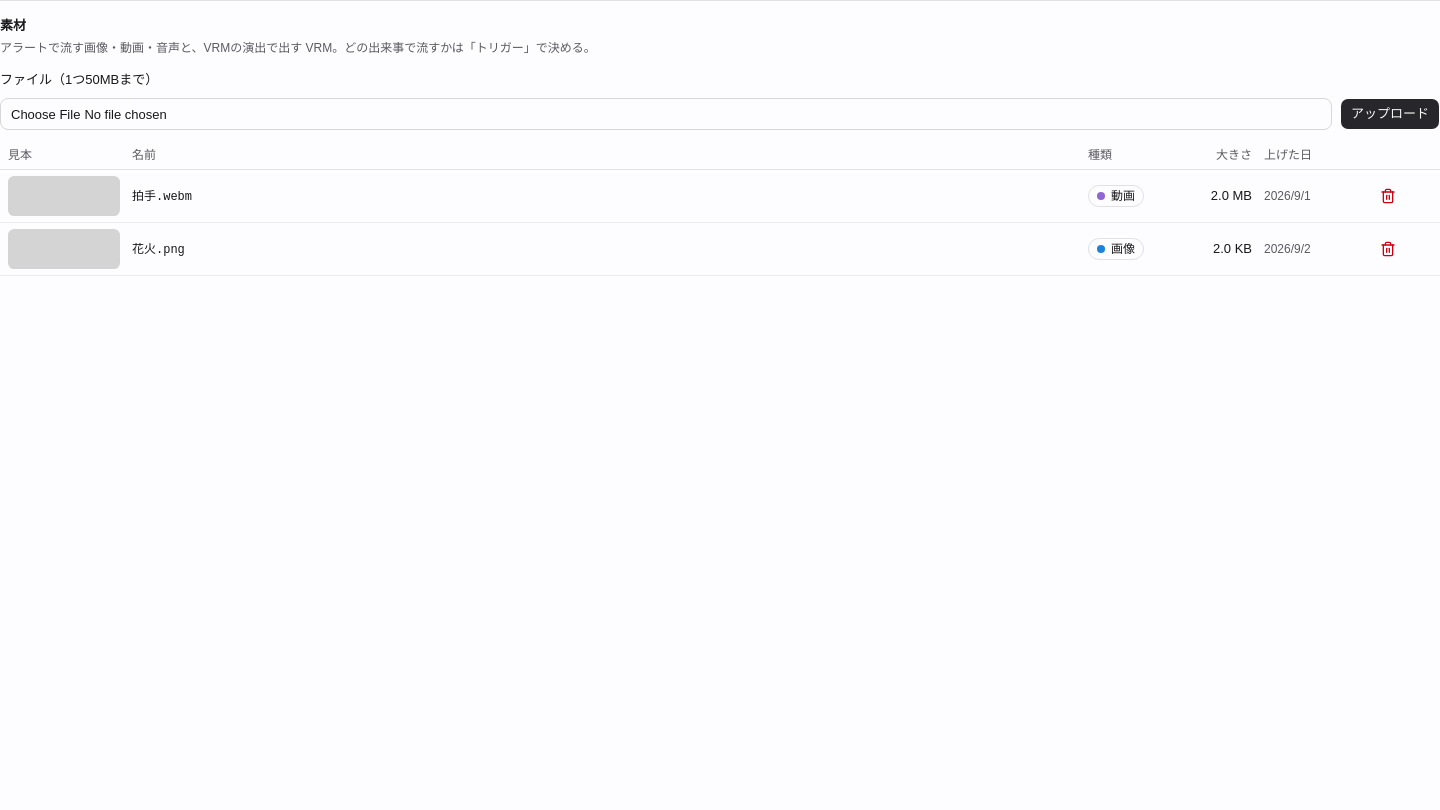
it: 削除 › 削除は確認してから行い、一覧から消す
The width and height of the screenshot is (1440, 810).
Click the button named "花火.png を削除" at coordinates (1388, 249), box 1372,233 -> 1404,265
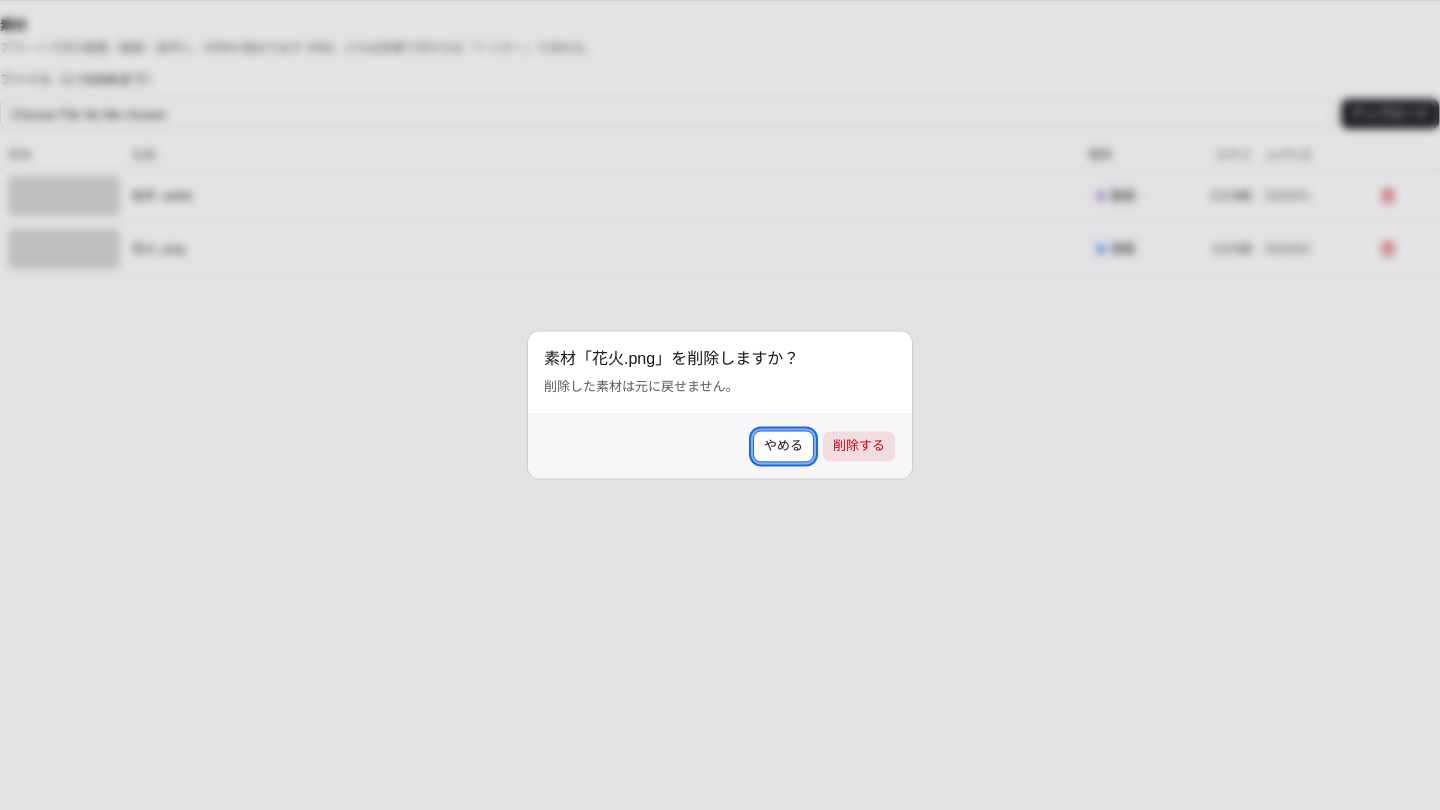
Result: the dialog shows "素材「花火.png」を削除しますか？" at 544,350 -> 799,367
Click the button "削除する" at coordinates (859, 447), box 822,431 -> 896,463
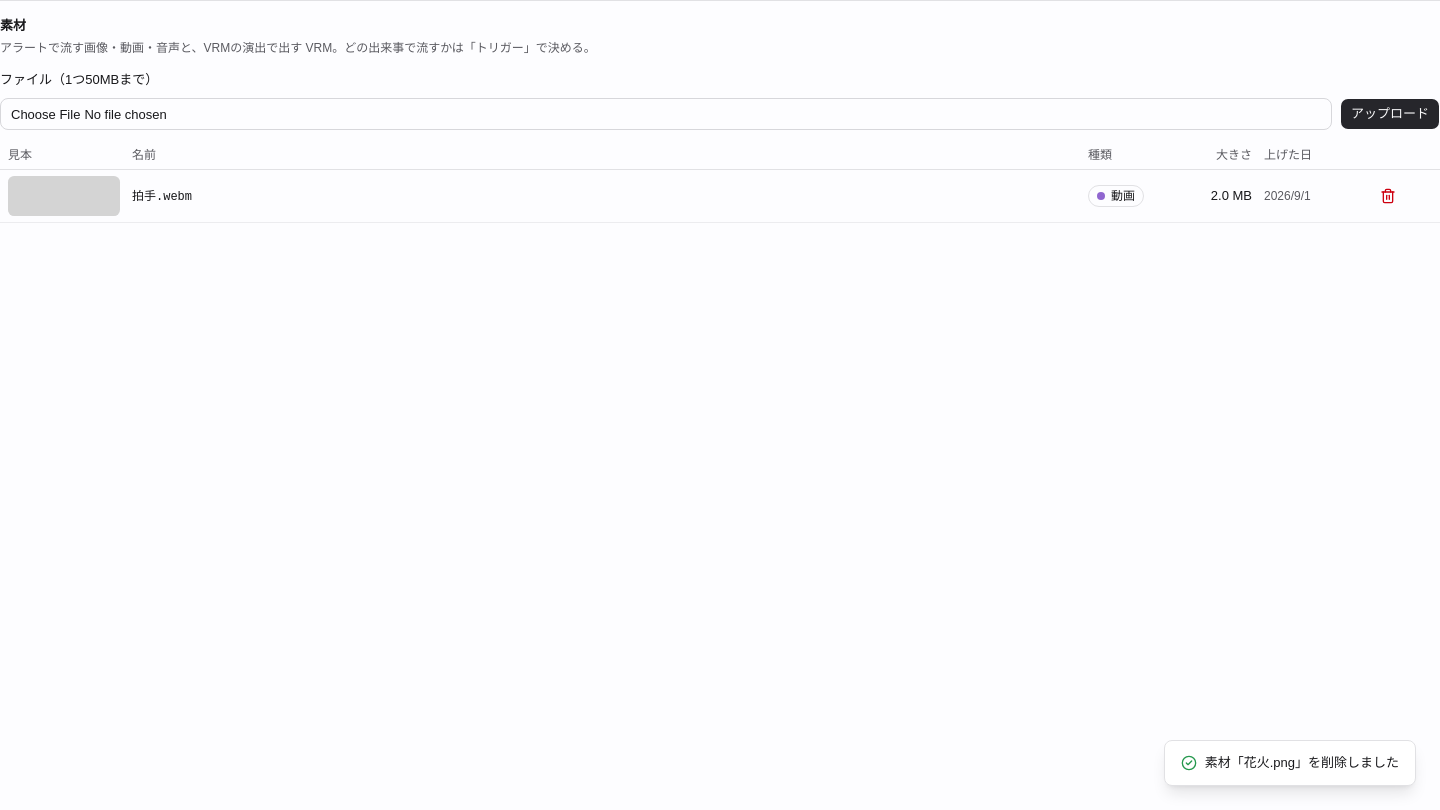
Result: the text "素材「花火.png」を削除しました" is shown at 1164,740 -> 1416,786
